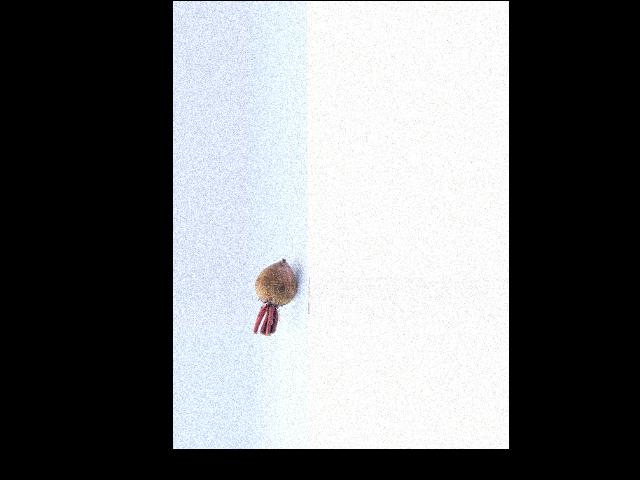beet: (254, 259, 296, 334)
